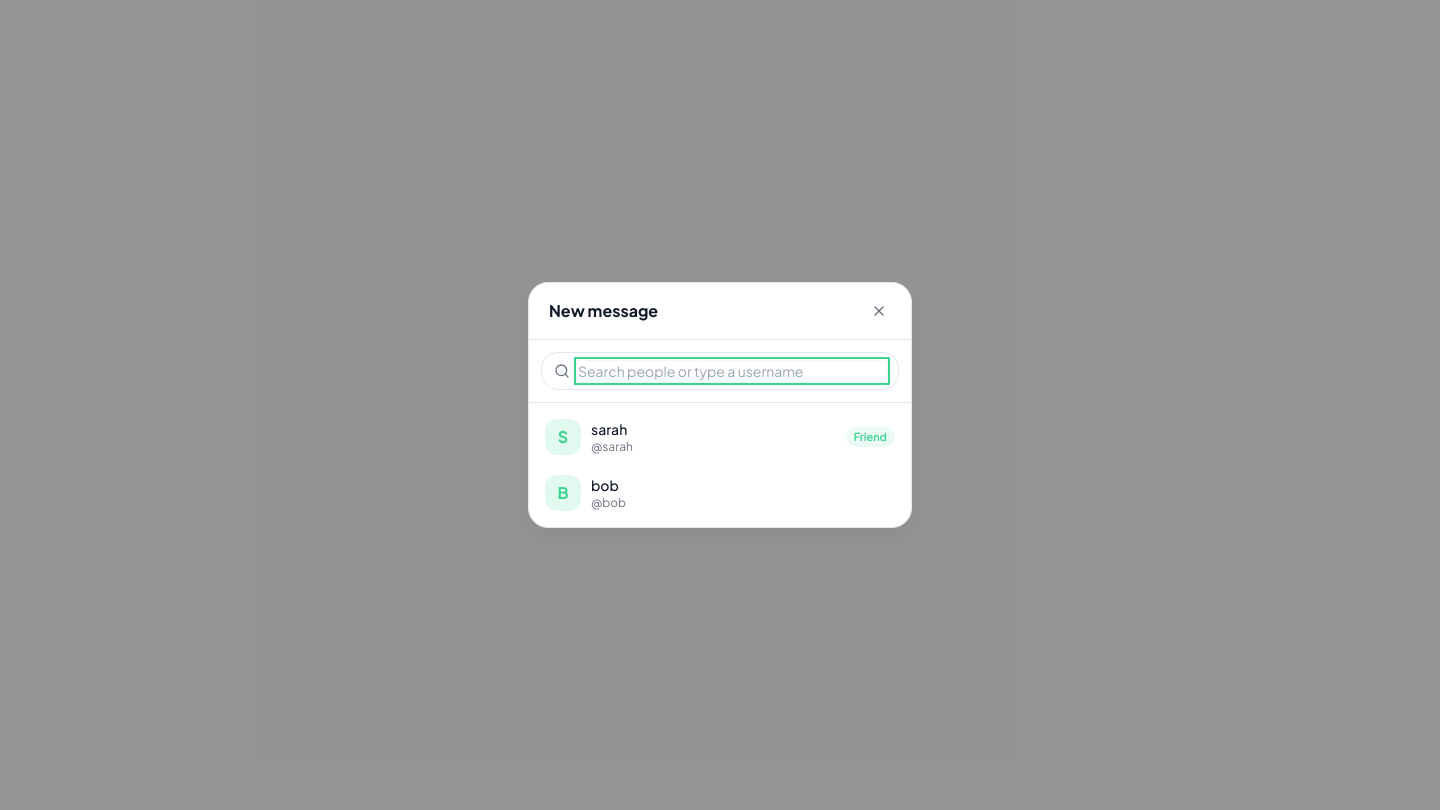
Test: UserPickerModal › filters rows as the user types
Expected: the text "@bob" is shown, [591, 495, 626, 510]
Type "sarah" into the field with placeholder "Search people or type a username" at (732, 371), box [578, 361, 886, 381]
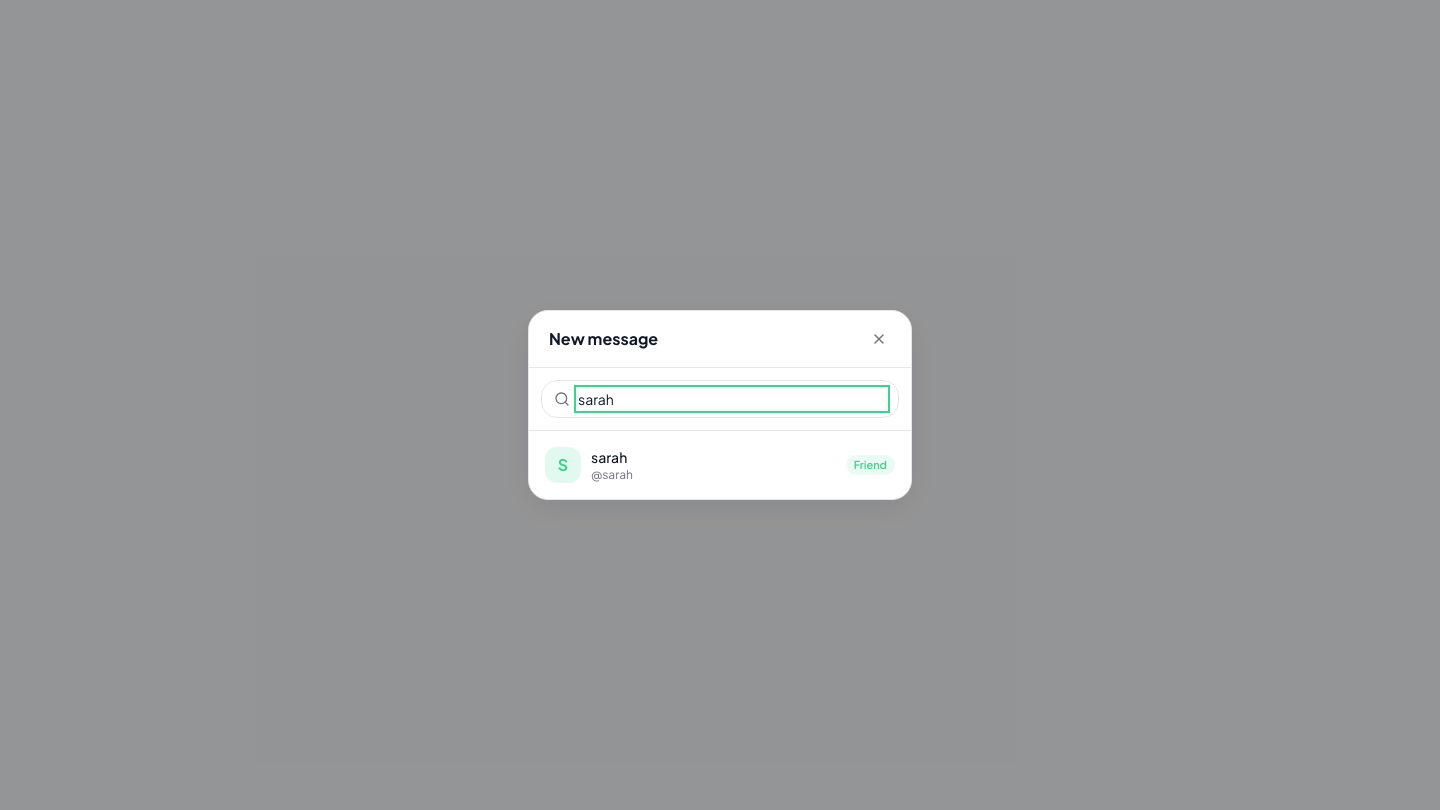
Expected: the text "@sarah" is shown, [591, 467, 633, 482]
Result: the button "@bob" is gone
